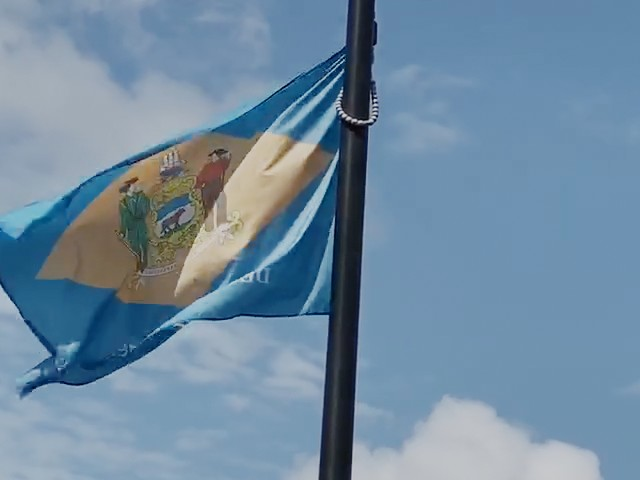Delaware flag: (1, 44, 347, 405)
